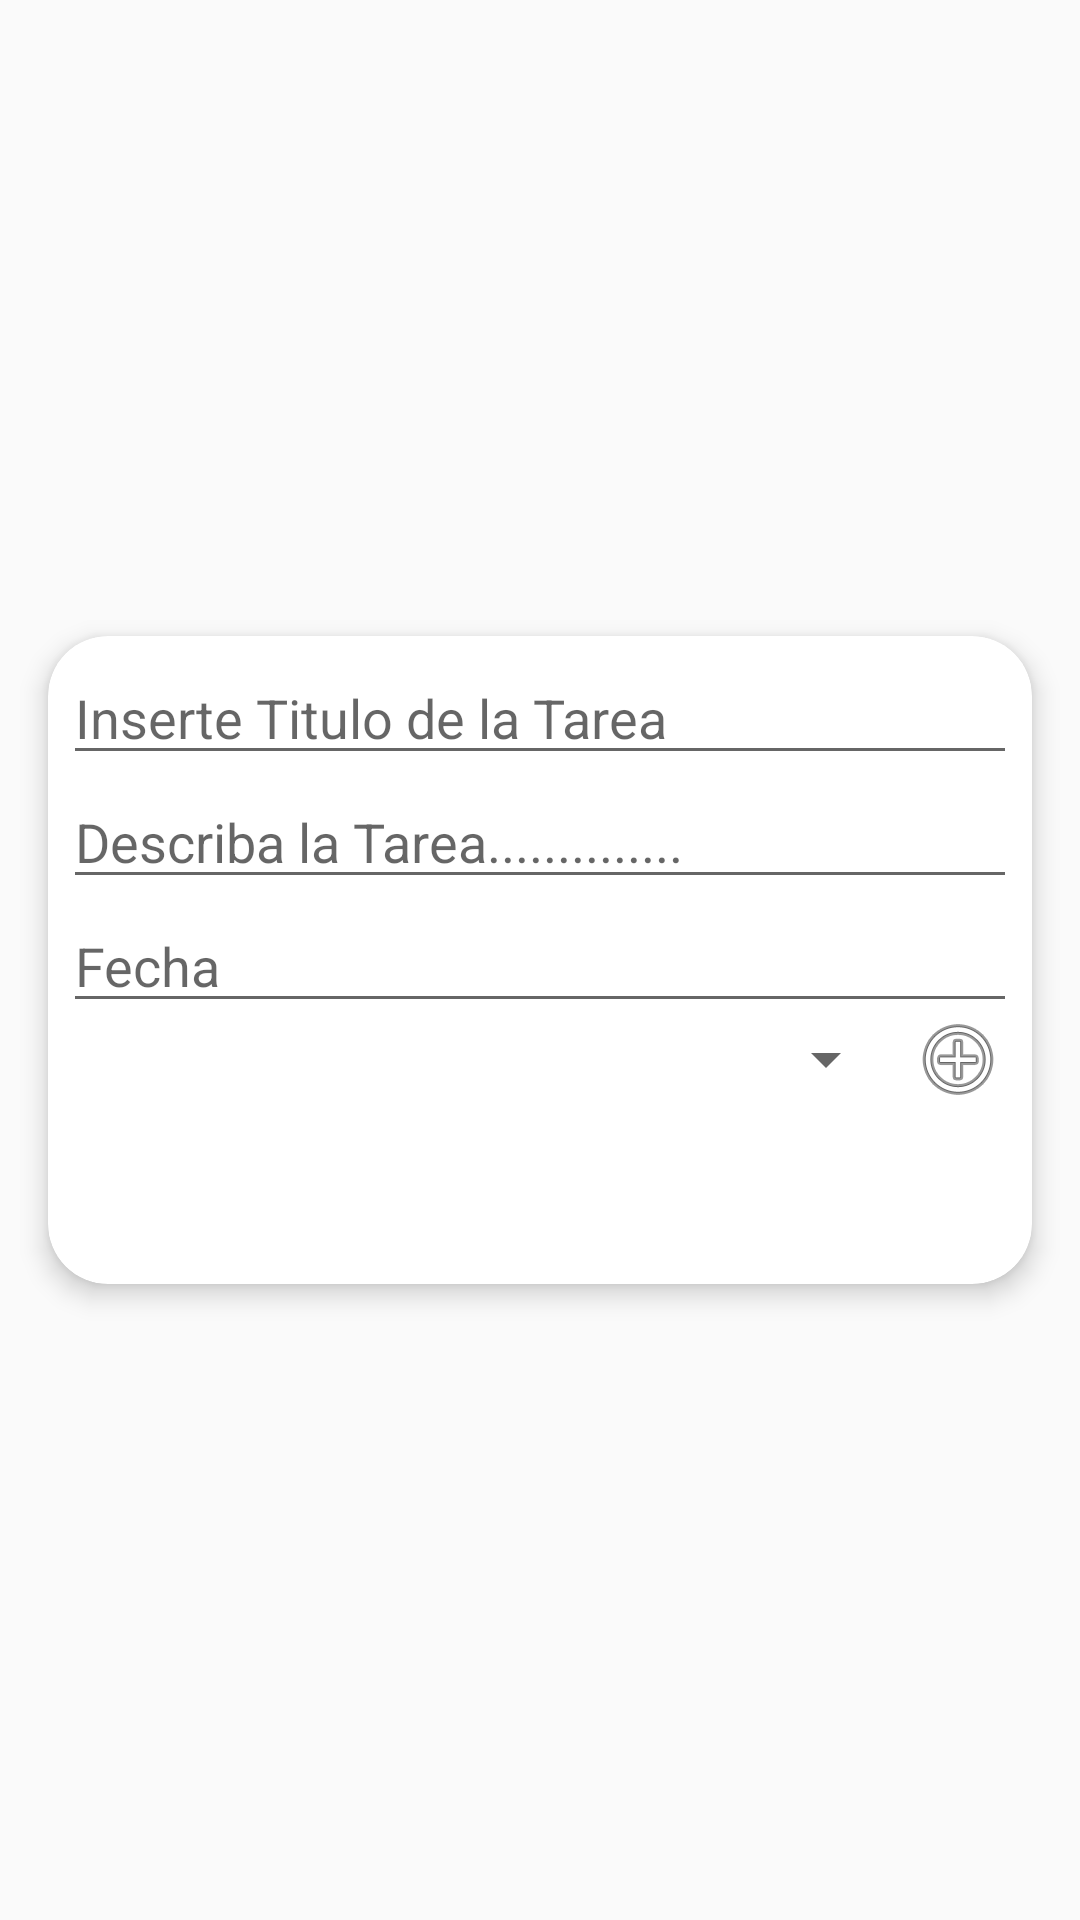

Screen size 1080px x 1920px. Icon name, then its box in pixels as (x1, y1, x2, y2):
add: (922, 1024, 994, 1095)
